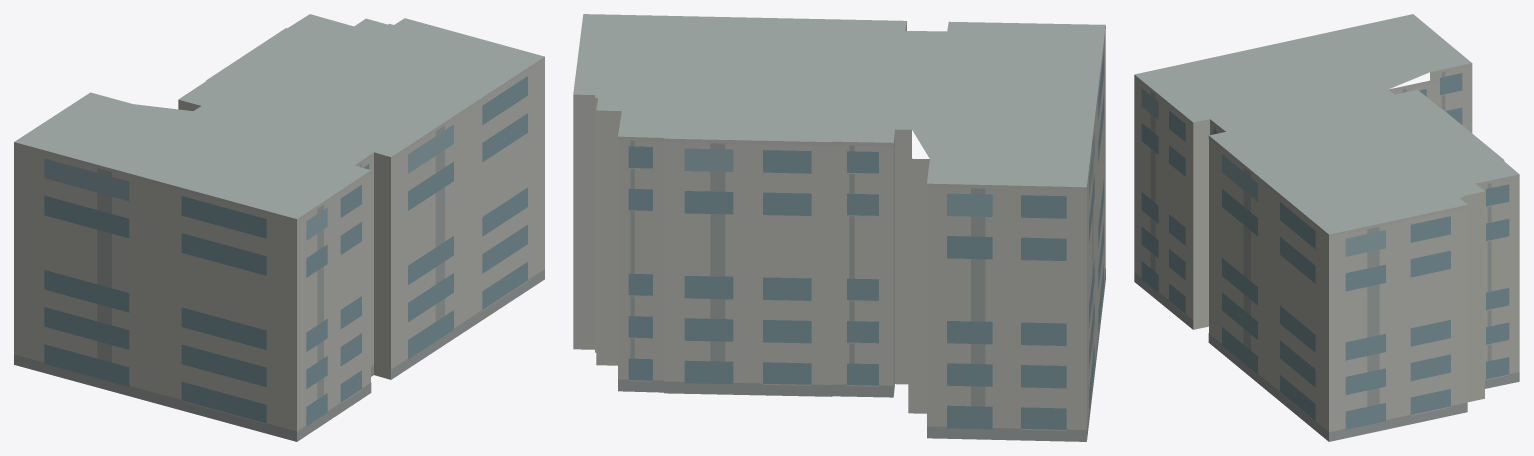
File: survey-upis-32835300.glb
The picture shows the model from 3 angles, left to right: view 1: azimuth 30°, elevation 25°; view 2: azimuth 150°, elevation 25°; view 3: azimuth 270°, elevation 25°; orthographic projection. The views are drawn at different scales.
Visible parts, largest first — view 1: survey-upis-32835300.tmp; view 2: survey-upis-32835300.tmp; view 3: survey-upis-32835300.tmp.
Boxes of the visible parts, bbox=[...] form: survey-upis-32835300.tmp: bbox=[14, 14, 544, 441]; survey-upis-32835300.tmp: bbox=[573, 14, 1105, 441]; survey-upis-32835300.tmp: bbox=[1134, 14, 1519, 441].
Bounding box in the file's own units: 38.11 × 16.7 × 28.13.
